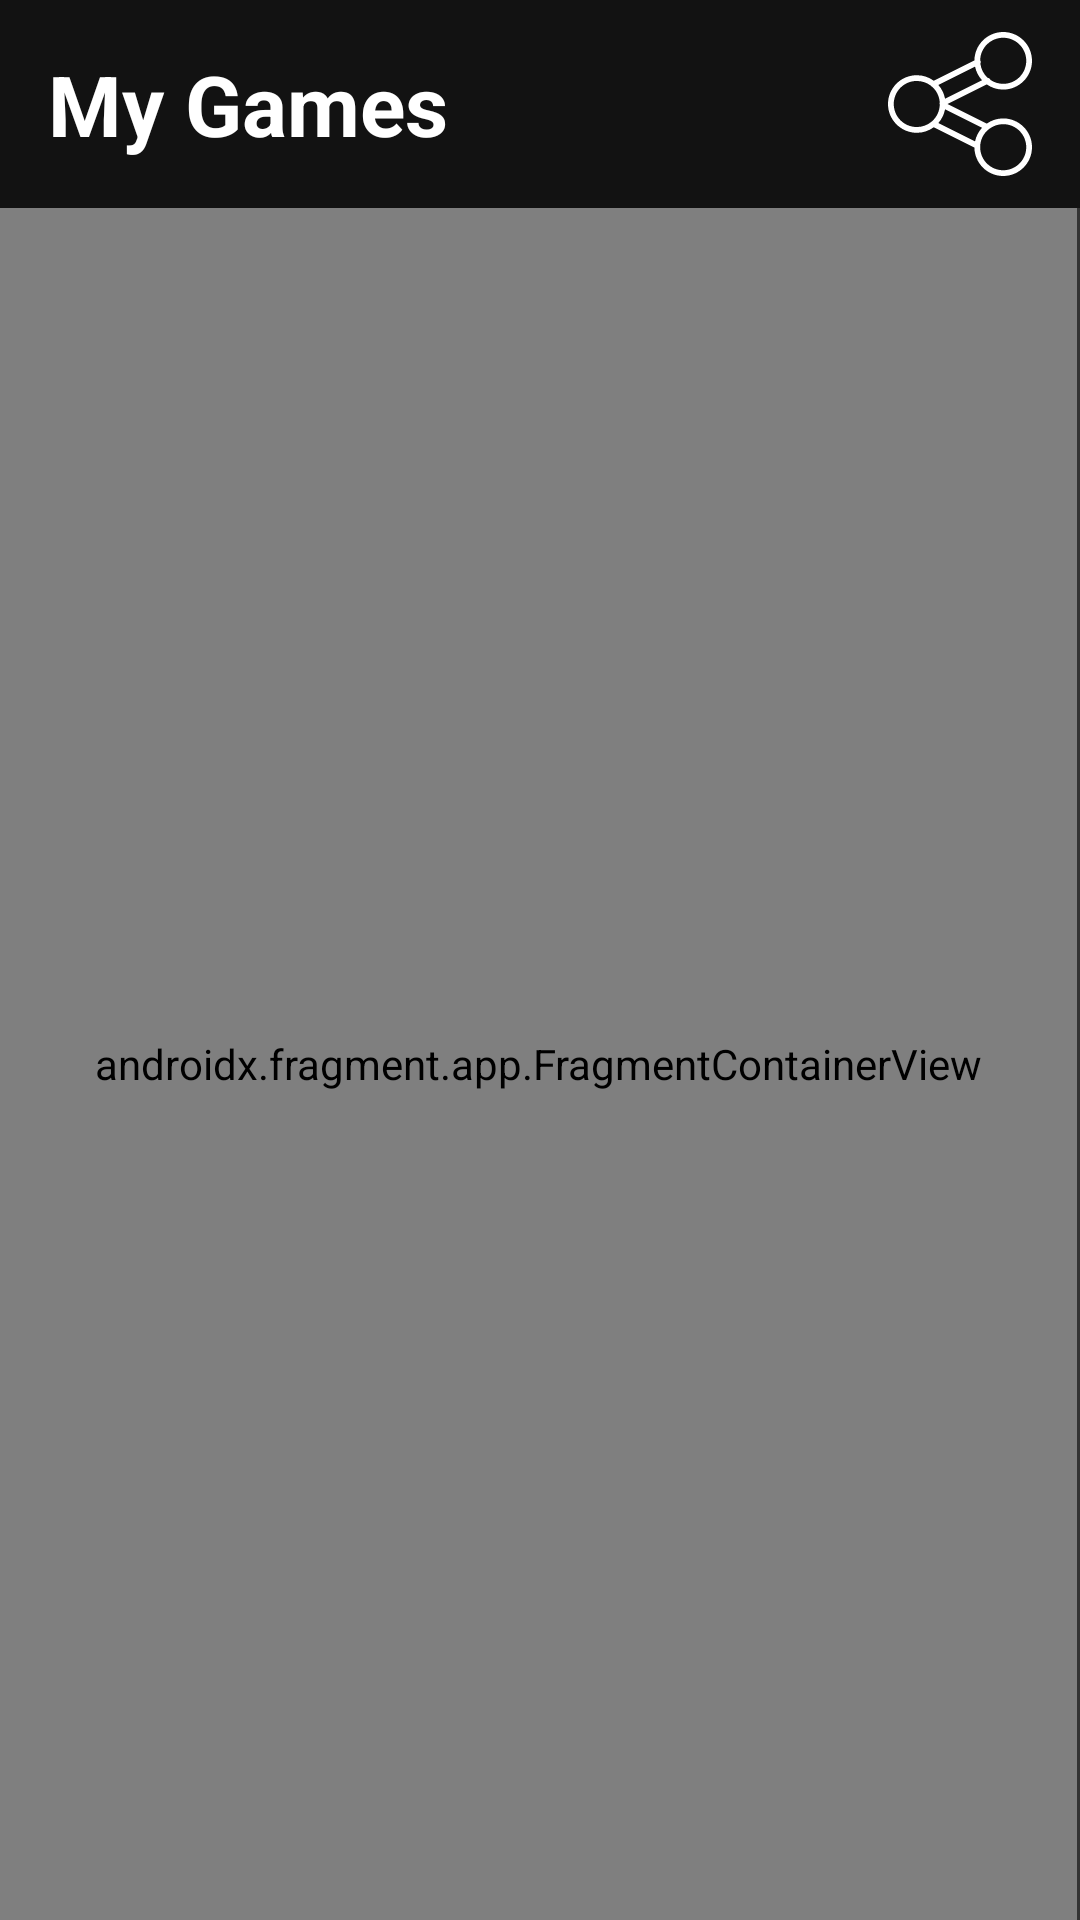

Screen size 1080×1920. Icon name, then its center in pixels as (x,y):
share: (960,104)
